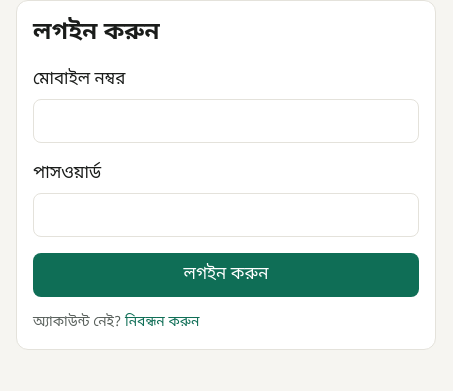
Scenario: Login › rejects a malformed phone inline, without a round-trip
Type "0181000" into the field labelled "মোবাইল নম্বর" at x=226, y=121, box [33,99,419,143]
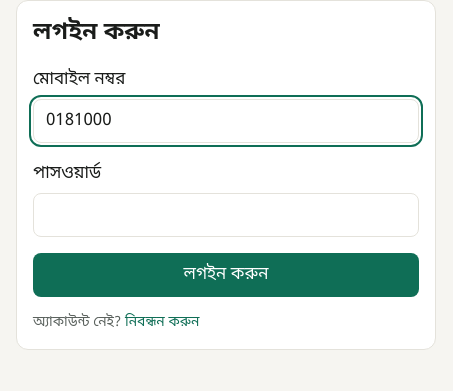
Type "resident123" into the password field labelled "পাসওয়ার্ড" at x=226, y=215, box [33,193,419,237]
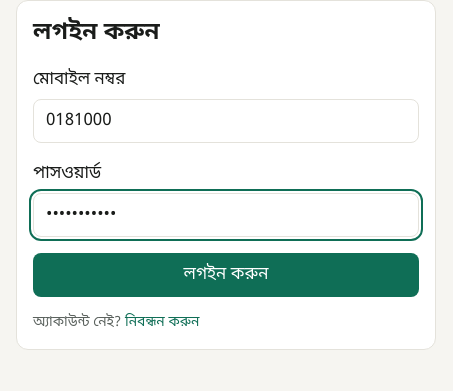
Click the button "লগইন করুন" at x=226, y=275, box [33,253,419,297]
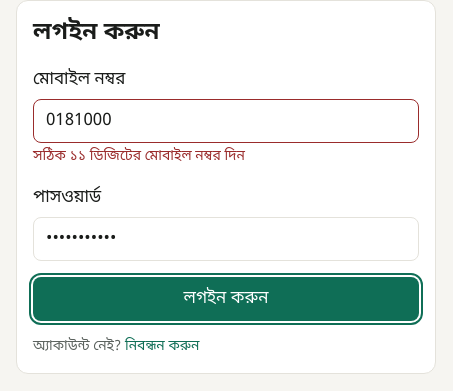
Expected: the text "সঠিক ১১ ডিজিটের মোবাইল নম্বর দিন" is shown, [33,147,245,166]
